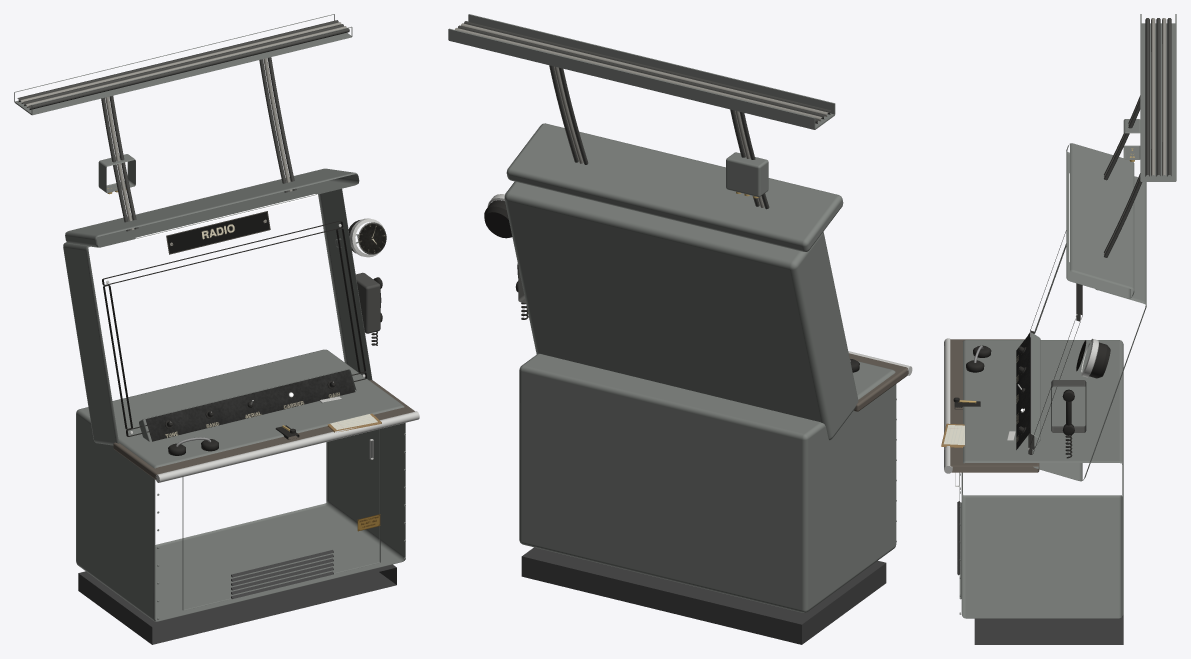
File: radio.glb
The picture shows the model from 3 angles, left to right: view 1: azimuth 30°, elevation 25°; view 2: azimuth 150°, elevation 25°; view 3: azimuth 270°, elevation 25°; orthographic projection. The views are drawn at different scales.
Parts seen in each view (by area): view 1: body; view 2: body; view 3: body.
Boxes of the visible parts, x1=… form: body: x1=14, y1=14, x2=419, y2=644; body: x1=448, y1=14, x2=912, y2=644; body: x1=941, y1=14, x2=1176, y2=644.
Size of the model in its own units: 1.74 by 2.48 by 1.08.
11 materials, 5 textured.
